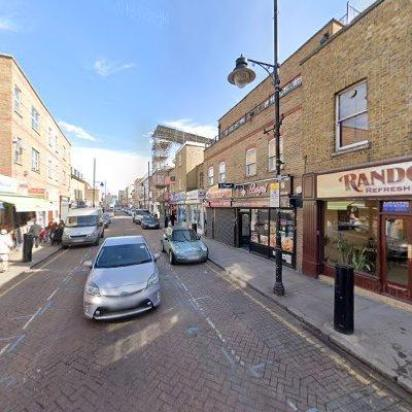moving-car: (77, 235, 161, 325)
stationary-car-onstreet: (158, 227, 208, 265), (140, 214, 160, 230), (98, 211, 112, 225)
stationary-light-truck-onstreet: (60, 206, 104, 248), (134, 208, 148, 224)
stationary-motorcycle-onstreet: (49, 223, 63, 247)
